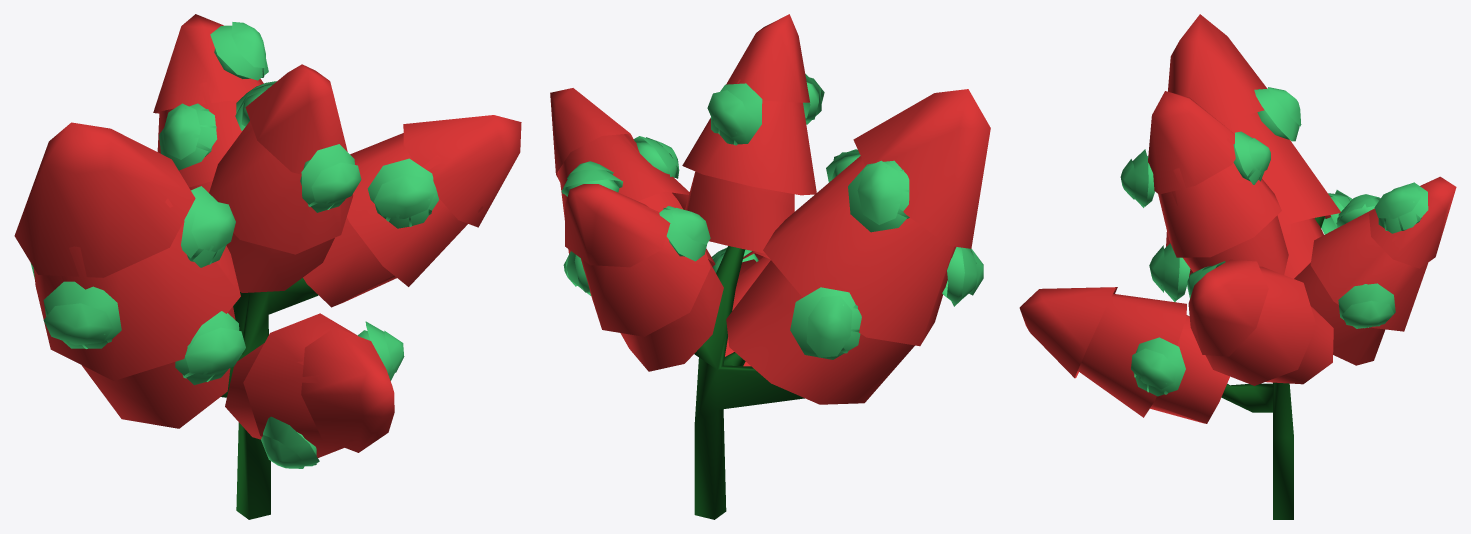
File: plant_Red.fbx
The picture shows the model from 3 angles, left to right: view 1: azimuth 30°, elevation 25°; view 2: azimuth 150°, elevation 25°; view 3: azimuth 270°, elevation 25°; orthographic projection. The views are drawn at different scales.
Parts seen in each view (by area): view 1: Red Plant; view 2: Red Plant; view 3: Red Plant.
Boxes of the visible parts, x1,y1,x2,y2 form: Red Plant: [14, 14, 521, 519]; Red Plant: [550, 14, 990, 519]; Red Plant: [1019, 14, 1456, 519].
Bounding box in the file's own units: 499 × 495 × 469.
